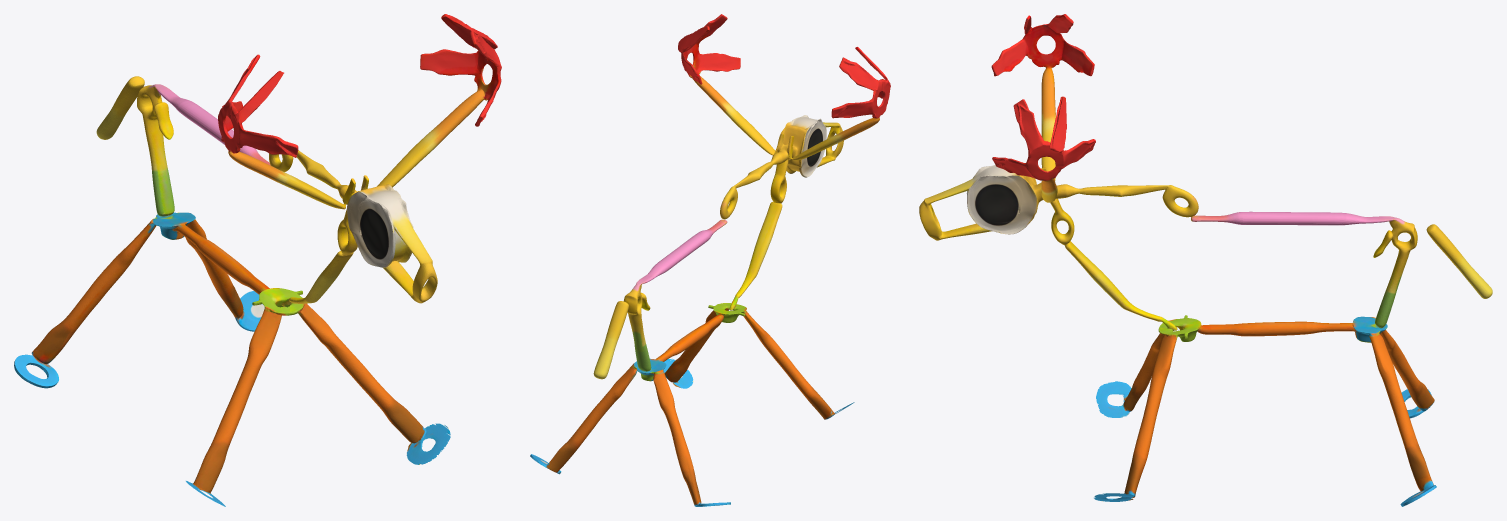
The model's file is stemibuffalo.glb.
The picture shows the model from 3 angles, left to right: view 1: azimuth 30°, elevation 25°; view 2: azimuth 150°, elevation 25°; view 3: azimuth 270°, elevation 25°; orthographic projection. The views are drawn at different scales.
Visible parts, largest first — view 1: tripo_node_5fa7225a-0638-4fc8-b0f6-a6d5327f19ce; view 2: tripo_node_5fa7225a-0638-4fc8-b0f6-a6d5327f19ce; view 3: tripo_node_5fa7225a-0638-4fc8-b0f6-a6d5327f19ce.
Part boxes in pixels (x1,y1,x2,y2): tripo_node_5fa7225a-0638-4fc8-b0f6-a6d5327f19ce: [14, 14, 501, 506]; tripo_node_5fa7225a-0638-4fc8-b0f6-a6d5327f19ce: [530, 14, 890, 506]; tripo_node_5fa7225a-0638-4fc8-b0f6-a6d5327f19ce: [919, 14, 1492, 506].
Size of the model in its own units: 0.4803 by 0.7906 by 1.
1 material, 1 textured.
